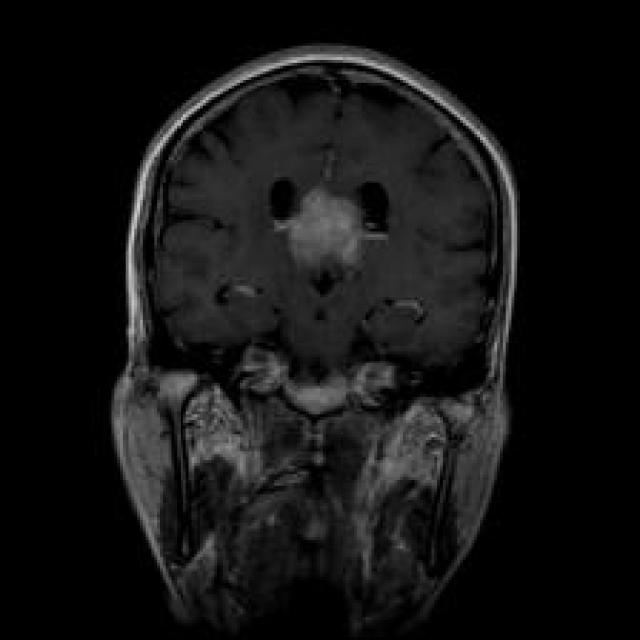meningioma_tumor: (279, 176, 379, 292)
